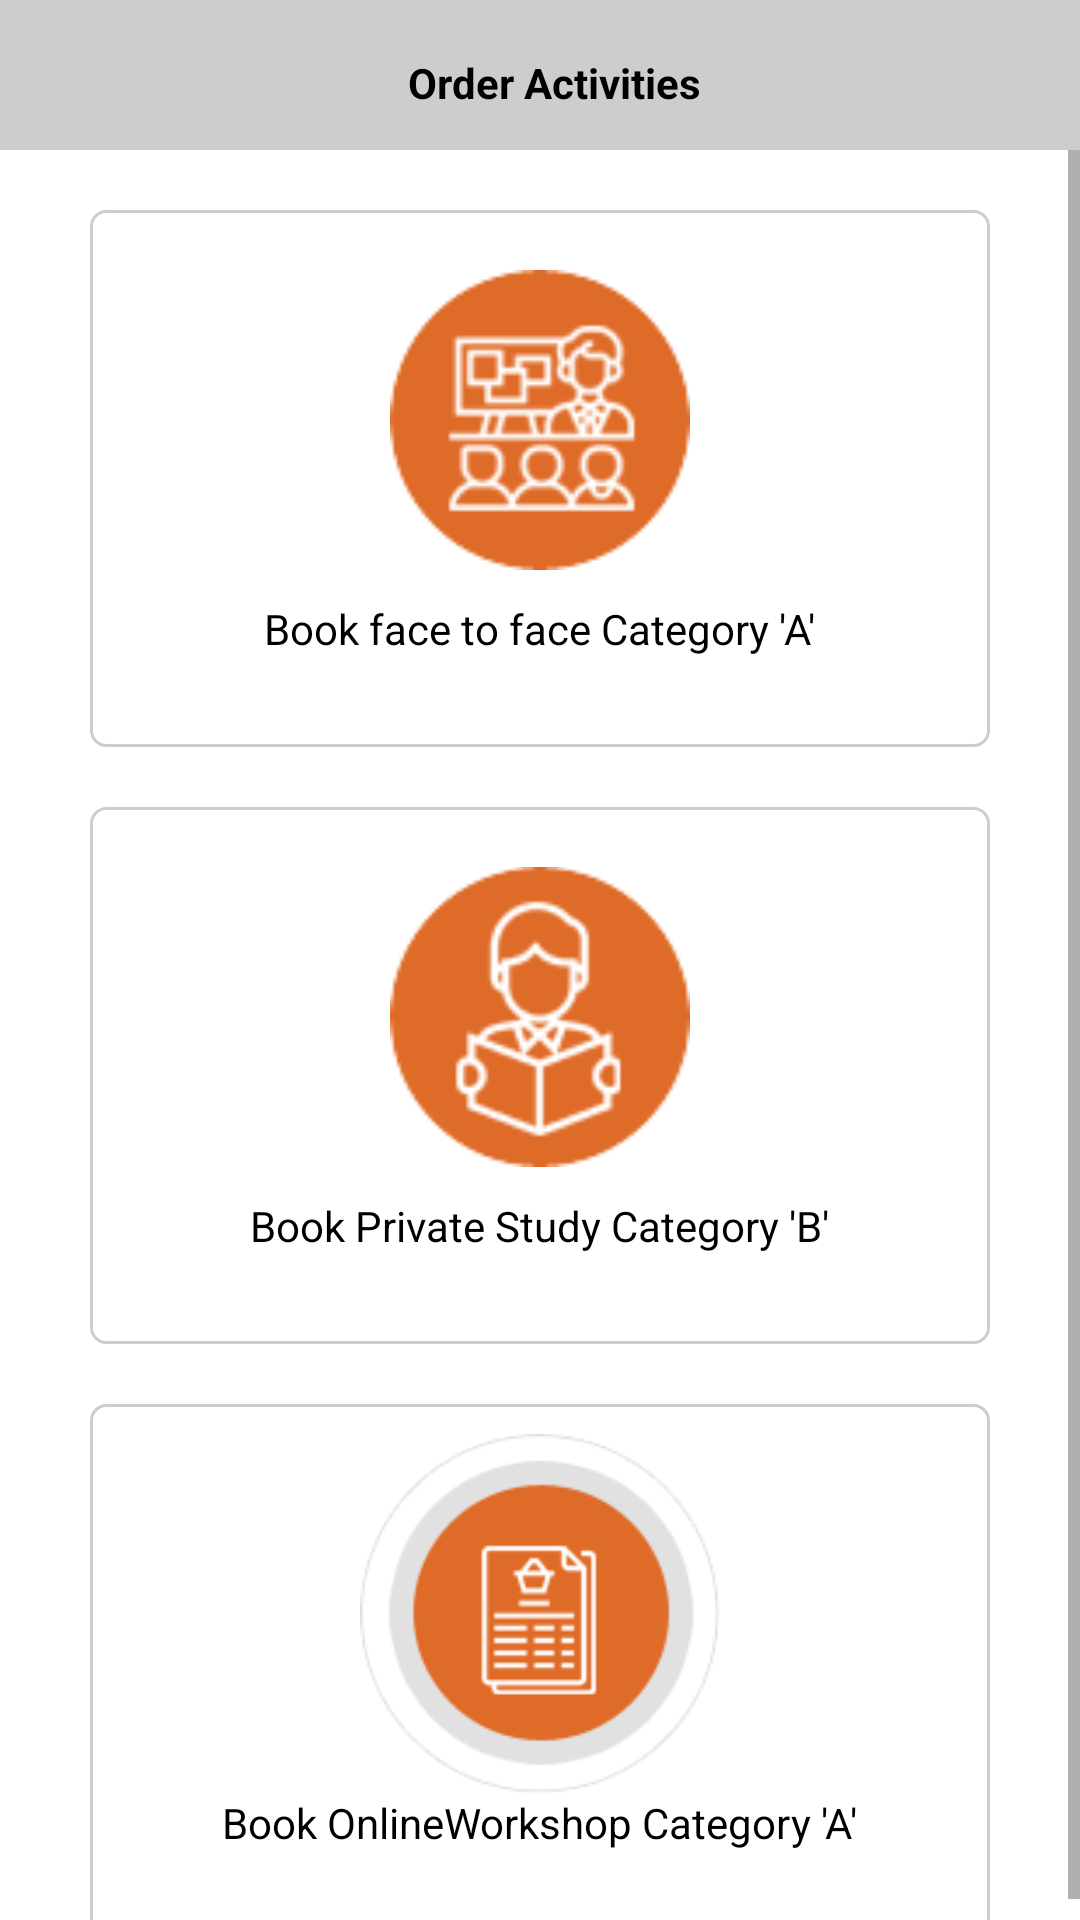

Icon click points for this 1080×1920 phone screenshot, format (x=x, y=y):
order history: (x=538, y=1612)
